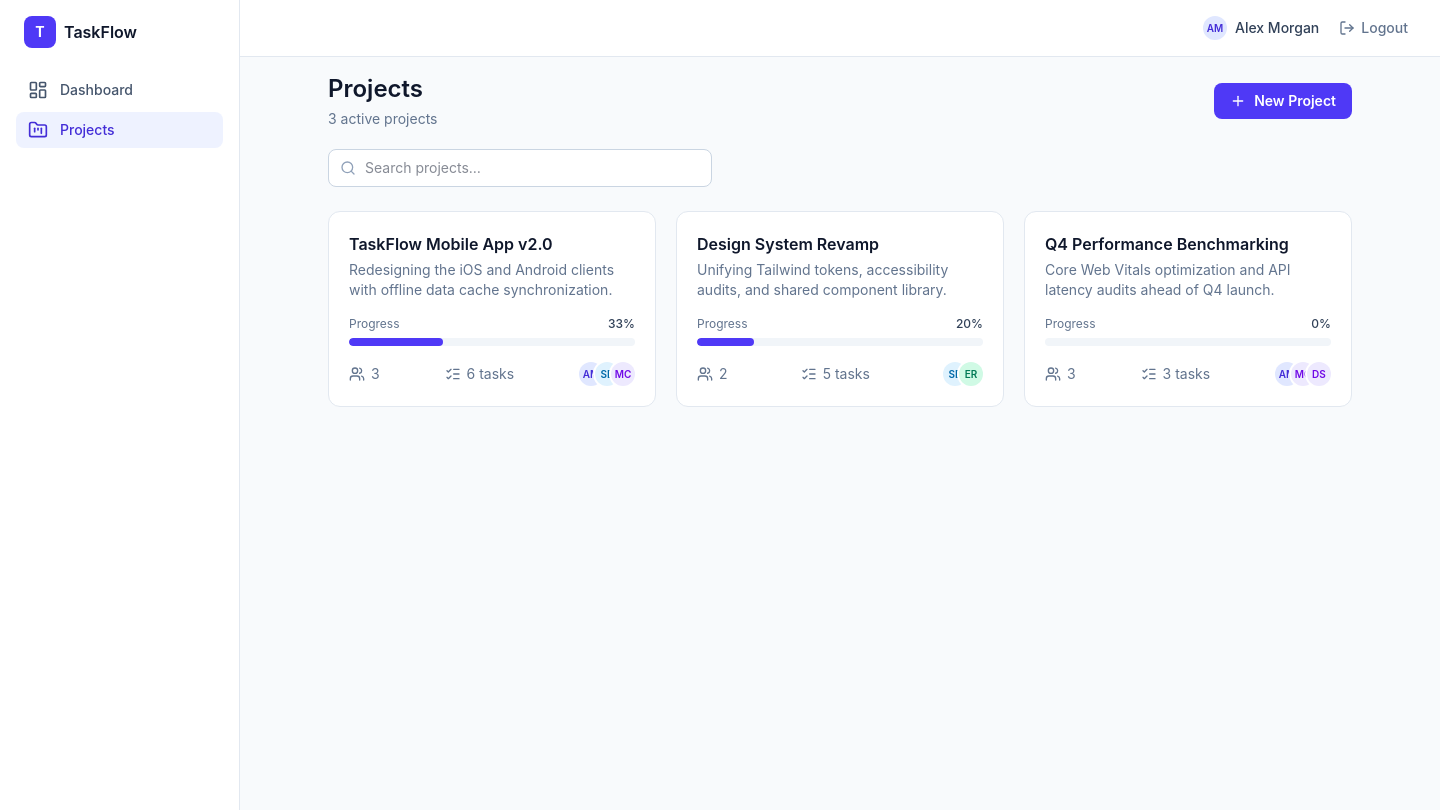
ProjectsPage › shows an empty state when no project matches the search
This screenshot has width=1440, height=810.
Check: the heading "TaskFlow Mobile App v2.0" is shown, box 349,234 -> 553,254
Type "zzz-no-match" into the search field named "search projects by name" at point(520, 168), box 328,149 -> 712,187
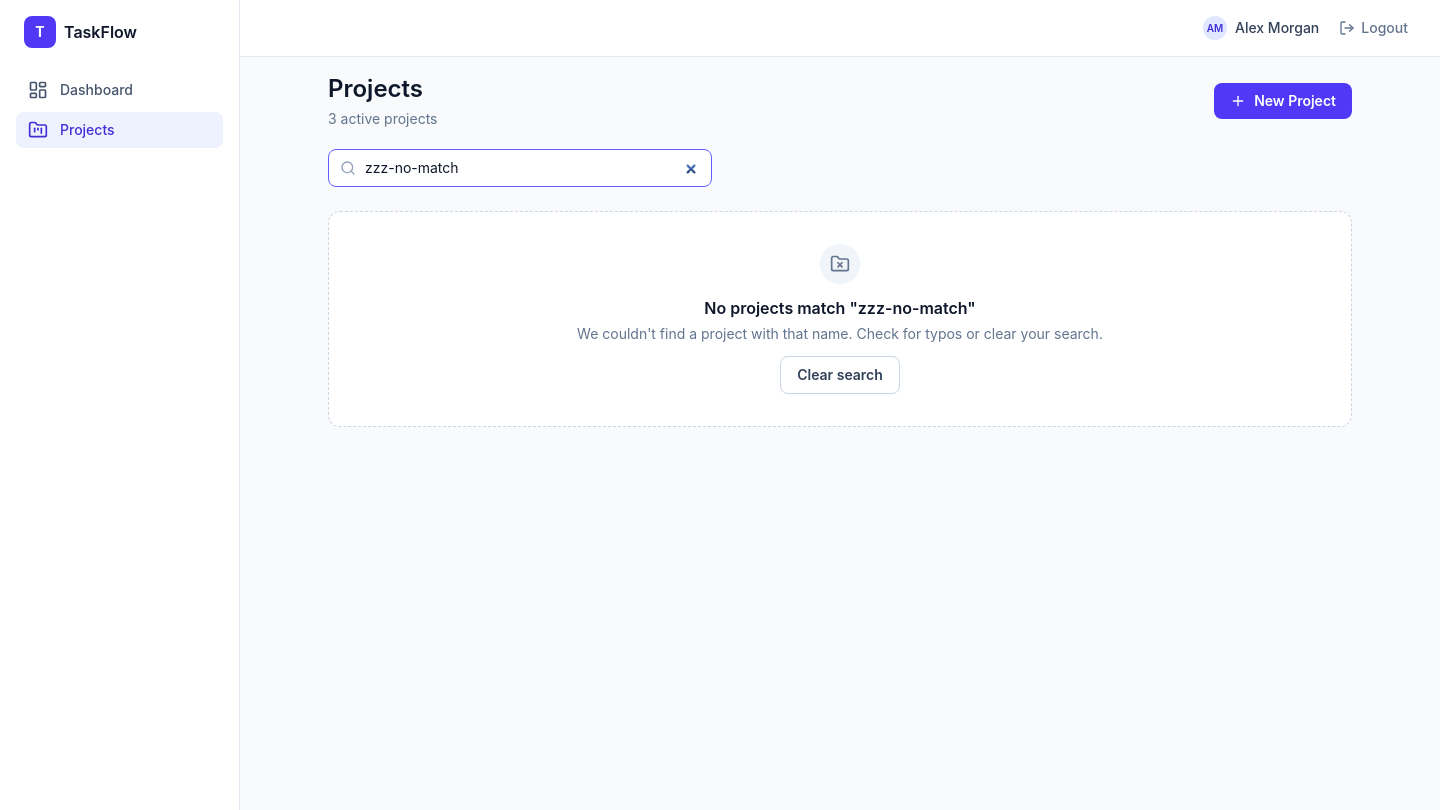
Check: the text "No projects match \"zzz-no-match\"" is shown, box 704,298 -> 976,318
